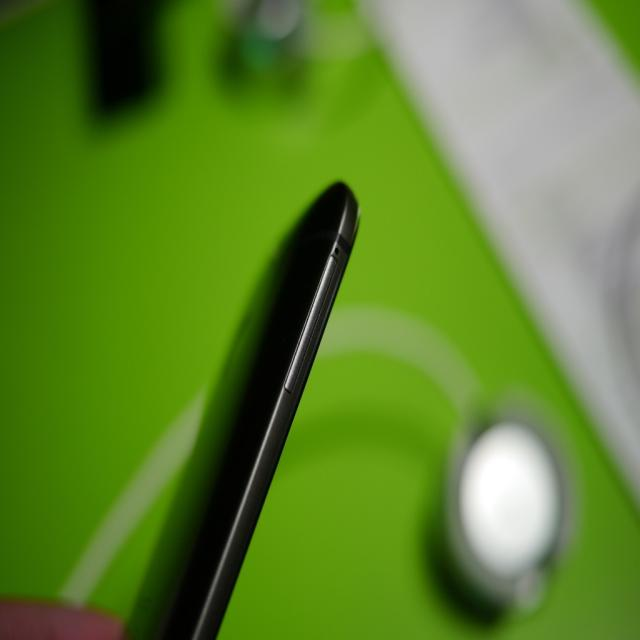pen: (159, 178, 361, 640)
